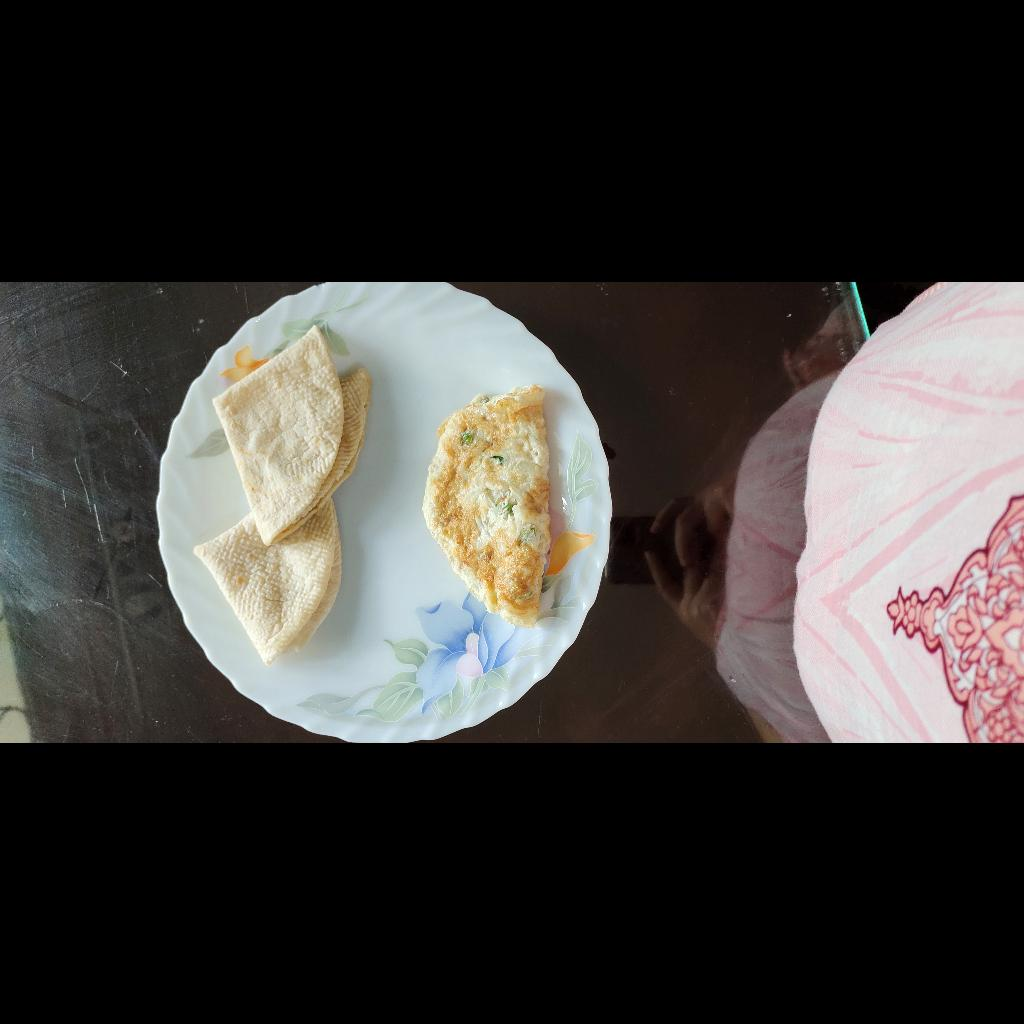egg-poached: (120, 705, 357, 833)
ruti: (85, 476, 420, 658)
